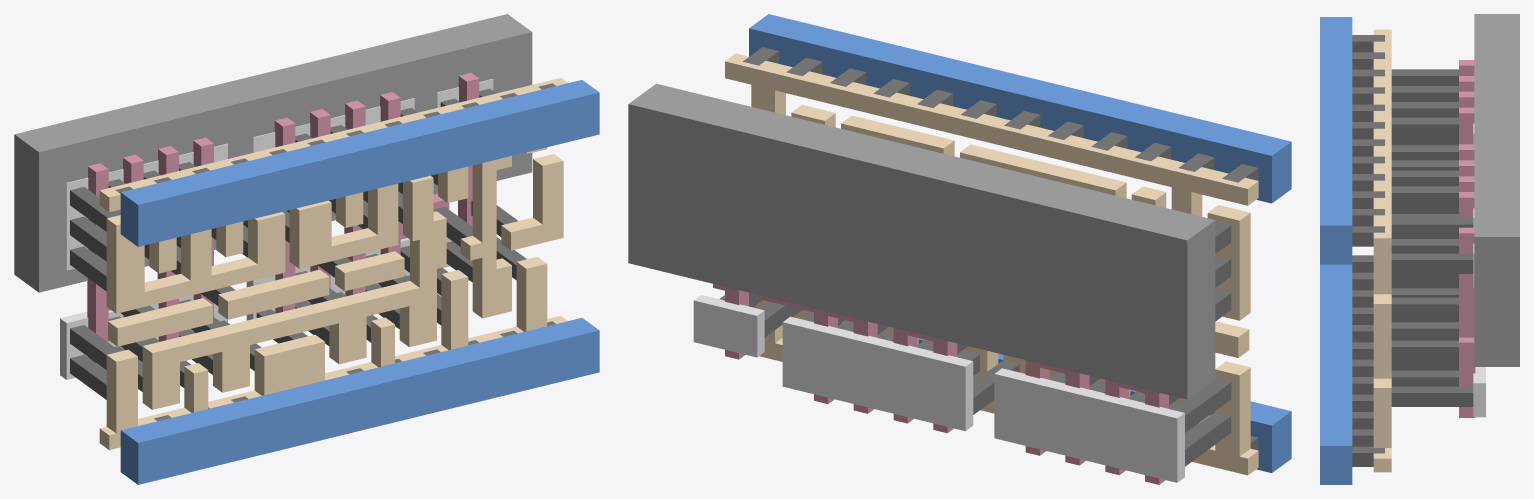
Rendered from sky130_fd_sc_hd__nor4b_2.gds.gltf.
3 renders of one model, left to right at view 1: azimuth 30°, elevation 25°; view 2: azimuth 150°, elevation 25°; view 3: azimuth 270°, elevation 25°, orthographic. The views are drawn at different scales.
Parts seen in each view (by area): view 1: sky130_fd_sc_hd__nor4b_2_li1, sky130_fd_sc_hd__nor4b_2_met1, sky130_fd_sc_hd__nor4b_2_nwell, sky130_fd_sc_hd__nor4b_2_licon, sky130_fd_sc_hd__nor4b_2_poly, sky130_fd_sc_hd__nor4b_2_diff, sky130_fd_sc_hd__nor4b_2_mcon; view 2: sky130_fd_sc_hd__nor4b_2_nwell, sky130_fd_sc_hd__nor4b_2_diff, sky130_fd_sc_hd__nor4b_2_li1, sky130_fd_sc_hd__nor4b_2_met1, sky130_fd_sc_hd__nor4b_2_licon, sky130_fd_sc_hd__nor4b_2_mcon, sky130_fd_sc_hd__nor4b_2_poly; view 3: sky130_fd_sc_hd__nor4b_2_licon, sky130_fd_sc_hd__nor4b_2_nwell, sky130_fd_sc_hd__nor4b_2_met1, sky130_fd_sc_hd__nor4b_2_mcon, sky130_fd_sc_hd__nor4b_2_li1, sky130_fd_sc_hd__nor4b_2_poly, sky130_fd_sc_hd__nor4b_2_diff.
Part boxes in pixels (x1=…): sky130_fd_sc_hd__nor4b_2_li1: x1=99, y1=78, x2=567, y2=450; sky130_fd_sc_hd__nor4b_2_met1: x1=120, y1=80, x2=599, y2=484; sky130_fd_sc_hd__nor4b_2_nwell: x1=14, y1=14, x2=532, y2=292; sky130_fd_sc_hd__nor4b_2_licon: x1=70, y1=88, x2=526, y2=399; sky130_fd_sc_hd__nor4b_2_poly: x1=87, y1=73, x2=479, y2=370; sky130_fd_sc_hd__nor4b_2_diff: x1=60, y1=79, x2=493, y2=379; sky130_fd_sc_hd__nor4b_2_mcon: x1=115, y1=83, x2=555, y2=421; sky130_fd_sc_hd__nor4b_2_nwell: x1=628, y1=83, x2=1215, y2=399; sky130_fd_sc_hd__nor4b_2_diff: x1=693, y1=295, x2=1184, y2=482; sky130_fd_sc_hd__nor4b_2_li1: x1=725, y1=53, x2=1258, y2=475; sky130_fd_sc_hd__nor4b_2_met1: x1=749, y1=14, x2=1291, y2=472; sky130_fd_sc_hd__nor4b_2_licon: x1=719, y1=221, x2=1231, y2=466; sky130_fd_sc_hd__nor4b_2_mcon: x1=743, y1=47, x2=1258, y2=450; sky130_fd_sc_hd__nor4b_2_poly: x1=713, y1=284, x2=1168, y2=484; sky130_fd_sc_hd__nor4b_2_licon: x1=1391, y1=69, x2=1473, y2=406; sky130_fd_sc_hd__nor4b_2_nwell: x1=1474, y1=14, x2=1519, y2=366; sky130_fd_sc_hd__nor4b_2_met1: x1=1320, y1=17, x2=1352, y2=484; sky130_fd_sc_hd__nor4b_2_mcon: x1=1352, y1=35, x2=1384, y2=466; sky130_fd_sc_hd__nor4b_2_li1: x1=1373, y1=29, x2=1391, y2=472; sky130_fd_sc_hd__nor4b_2_poly: x1=1459, y1=60, x2=1475, y2=417; sky130_fd_sc_hd__nor4b_2_diff: x1=1473, y1=123, x2=1485, y2=417.
Size of the model in its own units: 5.9 by 3.2 by 2.24.
